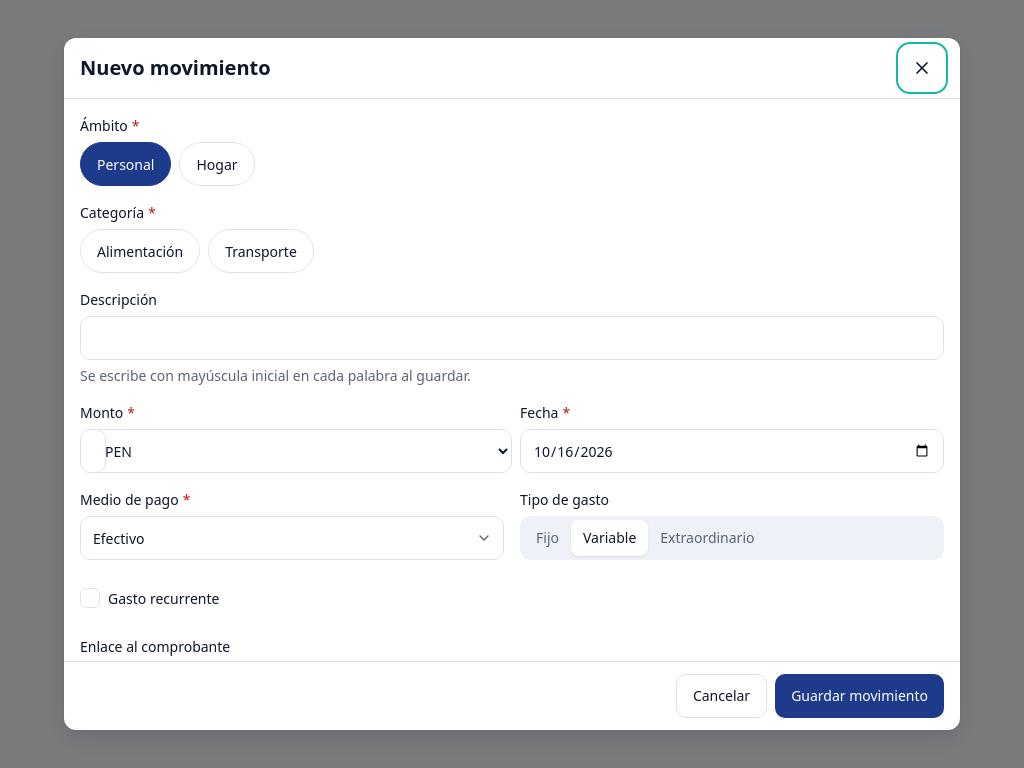
Test case: FormMovimiento · clasificación › una categoría con una sola subcategoría la elige sola
Click the radio button labelled "Transporte" at (261, 251), box [208,229,314,273]
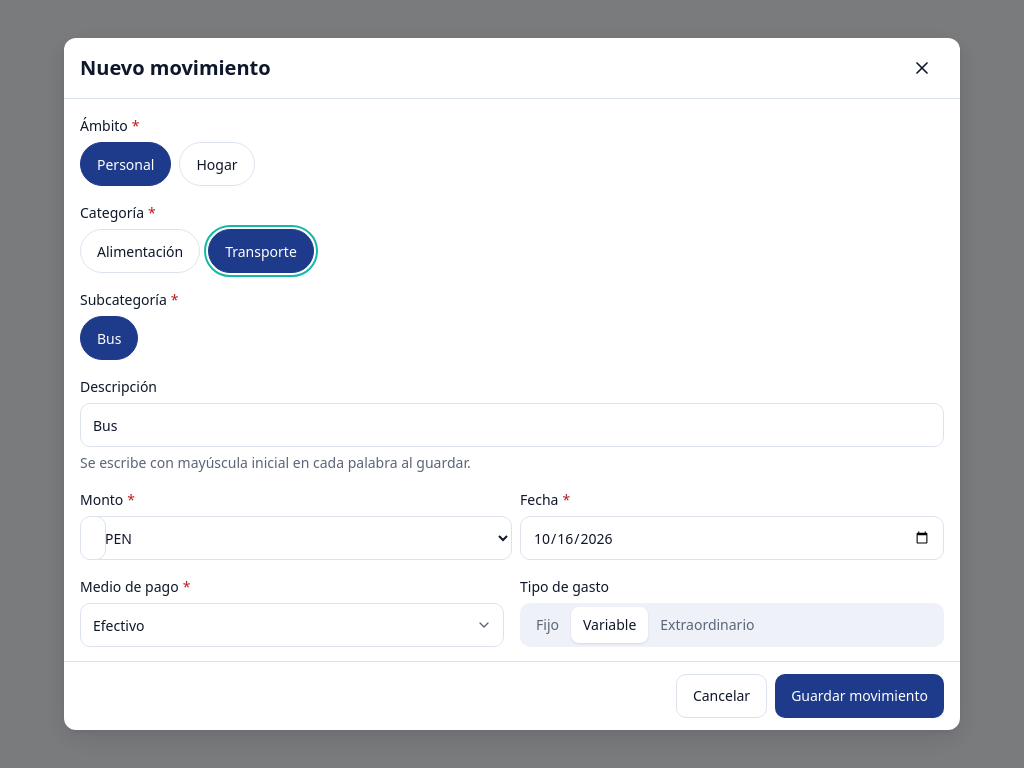
Result: the field labelled "Descripción" holds "Bus" at [80,403,944,447]
